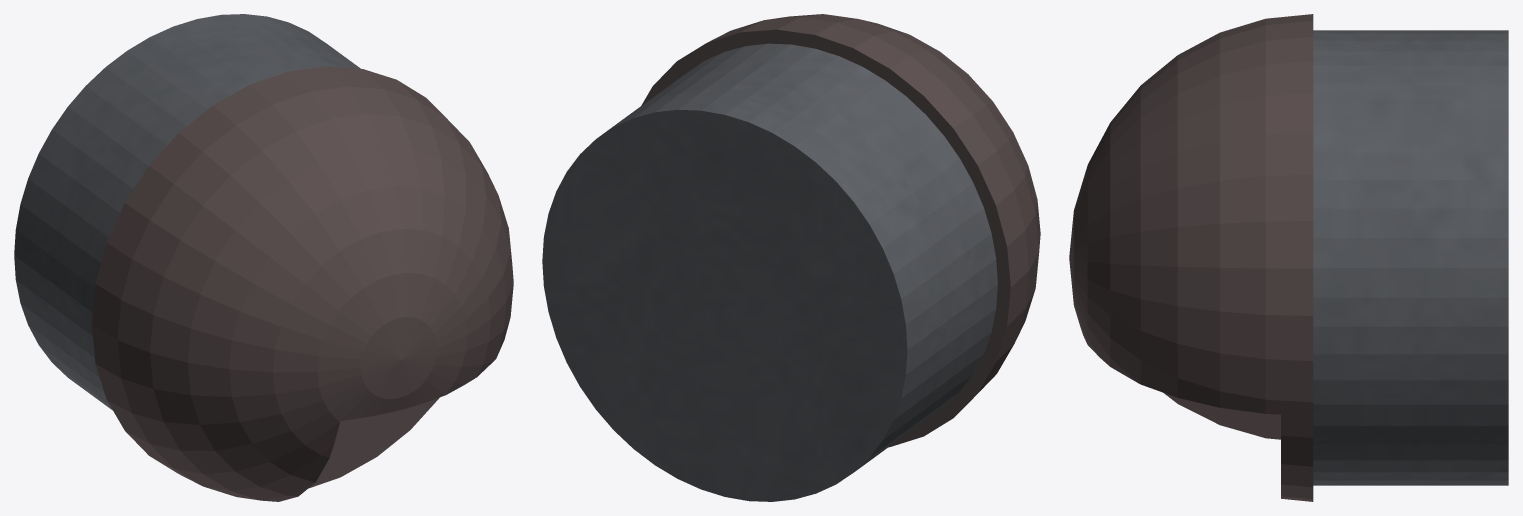
The model's file is aviation_light_broken.glb.
3 renders of one model, left to right at view 1: azimuth 30°, elevation 25°; view 2: azimuth 150°, elevation 25°; view 3: azimuth 270°, elevation 25°, orthographic. The views are drawn at different scales.
Parts seen in each view (by area): view 1: aviation_light_broken; view 2: aviation_light_broken; view 3: aviation_light_broken.
Boxes of the visible parts, bbox=[...] form: aviation_light_broken: bbox=[14, 14, 513, 501]; aviation_light_broken: bbox=[542, 14, 1040, 501]; aviation_light_broken: bbox=[1069, 14, 1508, 501].
Bounding box in the file's own units: 0.15 × 0.15 × 0.135.
2 materials, 1 textured.
